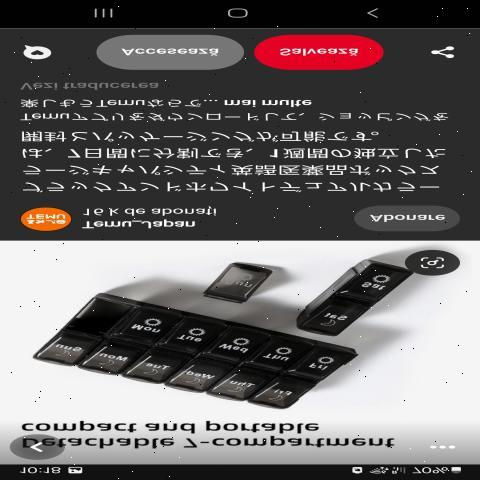PillBox: (21, 294, 390, 422)
